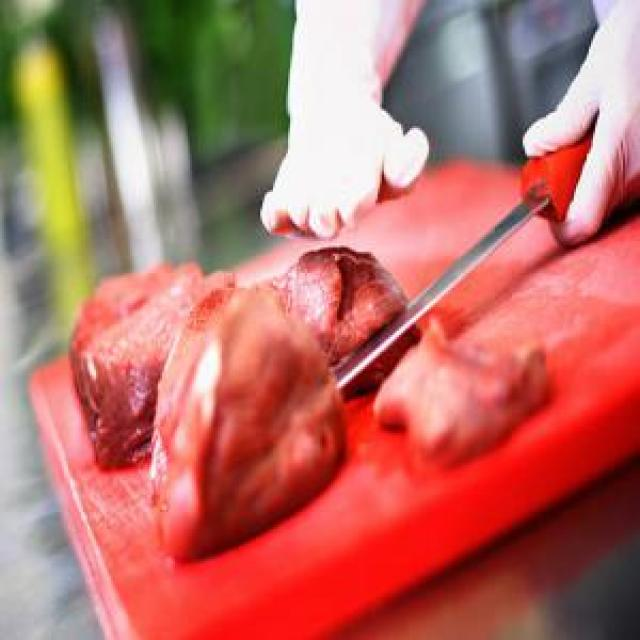knife: (330, 118, 600, 408)
